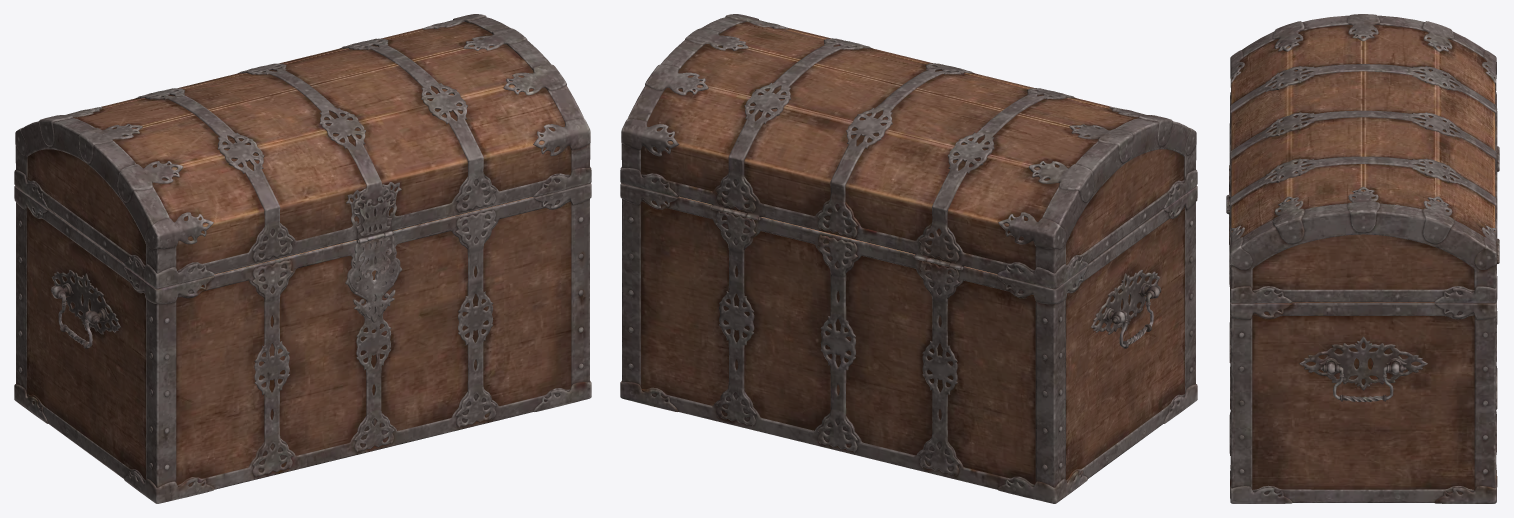
File: treasure-chest.glb
3 views of the same model, side by side, from view 1: azimuth 30°, elevation 25°; view 2: azimuth 150°, elevation 25°; view 3: azimuth 270°, elevation 25° (orthographic). The views are drawn at different scales.
Visible parts, largest first — view 1: treasure_chest_bottom; view 2: treasure_chest_bottom; view 3: treasure_chest_bottom.
Part boxes in pixels (x1,y1,x2,y2): treasure_chest_bottom: [14, 14, 591, 503]; treasure_chest_bottom: [620, 14, 1197, 503]; treasure_chest_bottom: [1226, 14, 1499, 503].
Bounding box in the file's own units: 0.959 × 0.619 × 0.5229.
1 material, 1 textured.
